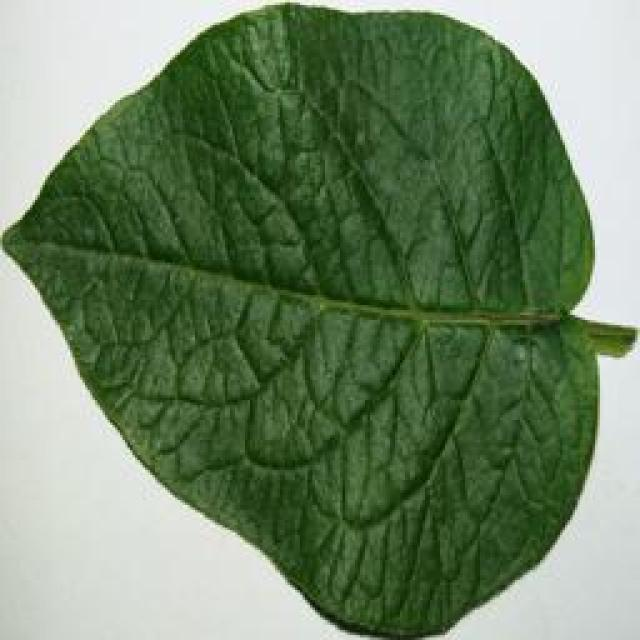Potato_Healthy: (8, 7, 630, 630)
